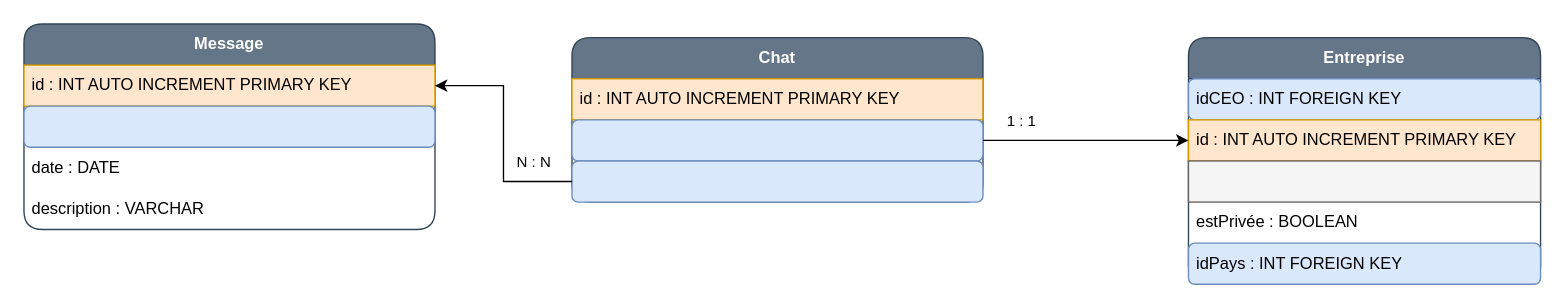
The diagram is 1565 pixels wide and 308 high, and some of its shapes have lost their labels. Each missing label, with the centre of its shape:
"idEntreprise : INT FOREIGN KEY" belongs at (777,140).
"idMessage : INT FOREIGN KEY" belongs at (777,181).
"idUtilisateur : INT FOREIGN KEY" belongs at (229,126).
"Nom : VARCHAR UNIQUE KEY" belongs at (1364,181).
